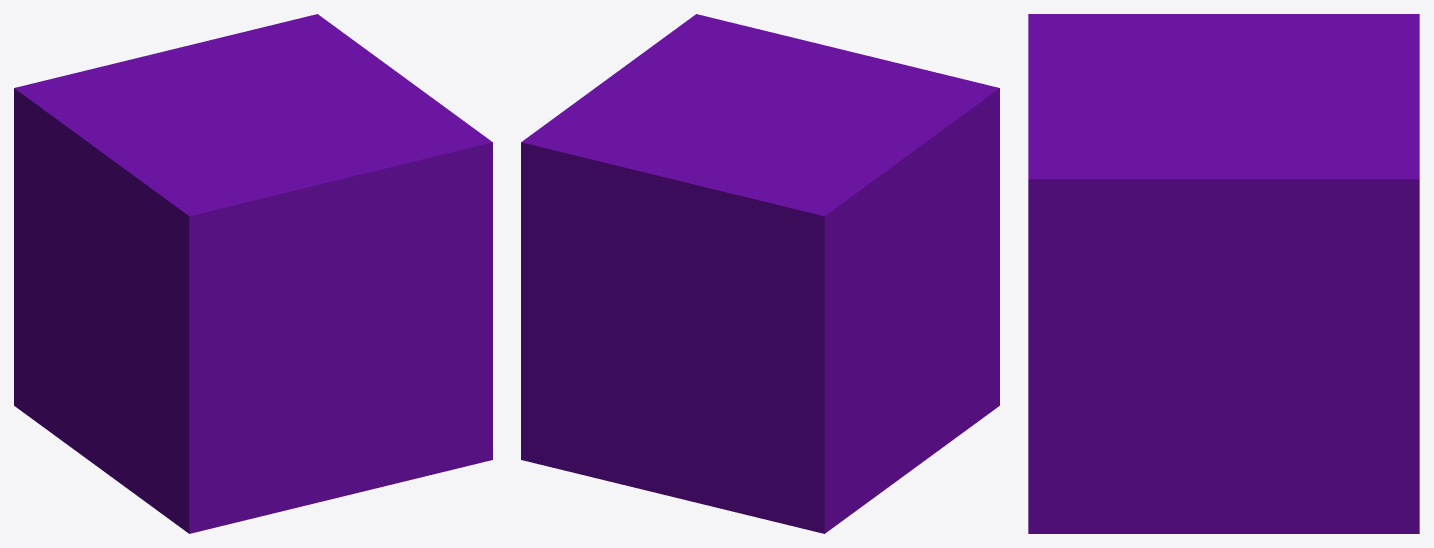
Rendered from purpleCube.obj.
3 views of the same model, side by side, from view 1: azimuth 30°, elevation 25°; view 2: azimuth 150°, elevation 25°; view 3: azimuth 270°, elevation 25° (orthographic). The views are drawn at different scales.
Bounding box in the file's own units: 1 × 1 × 1.
Materials: 1 (1 with a texture image).
